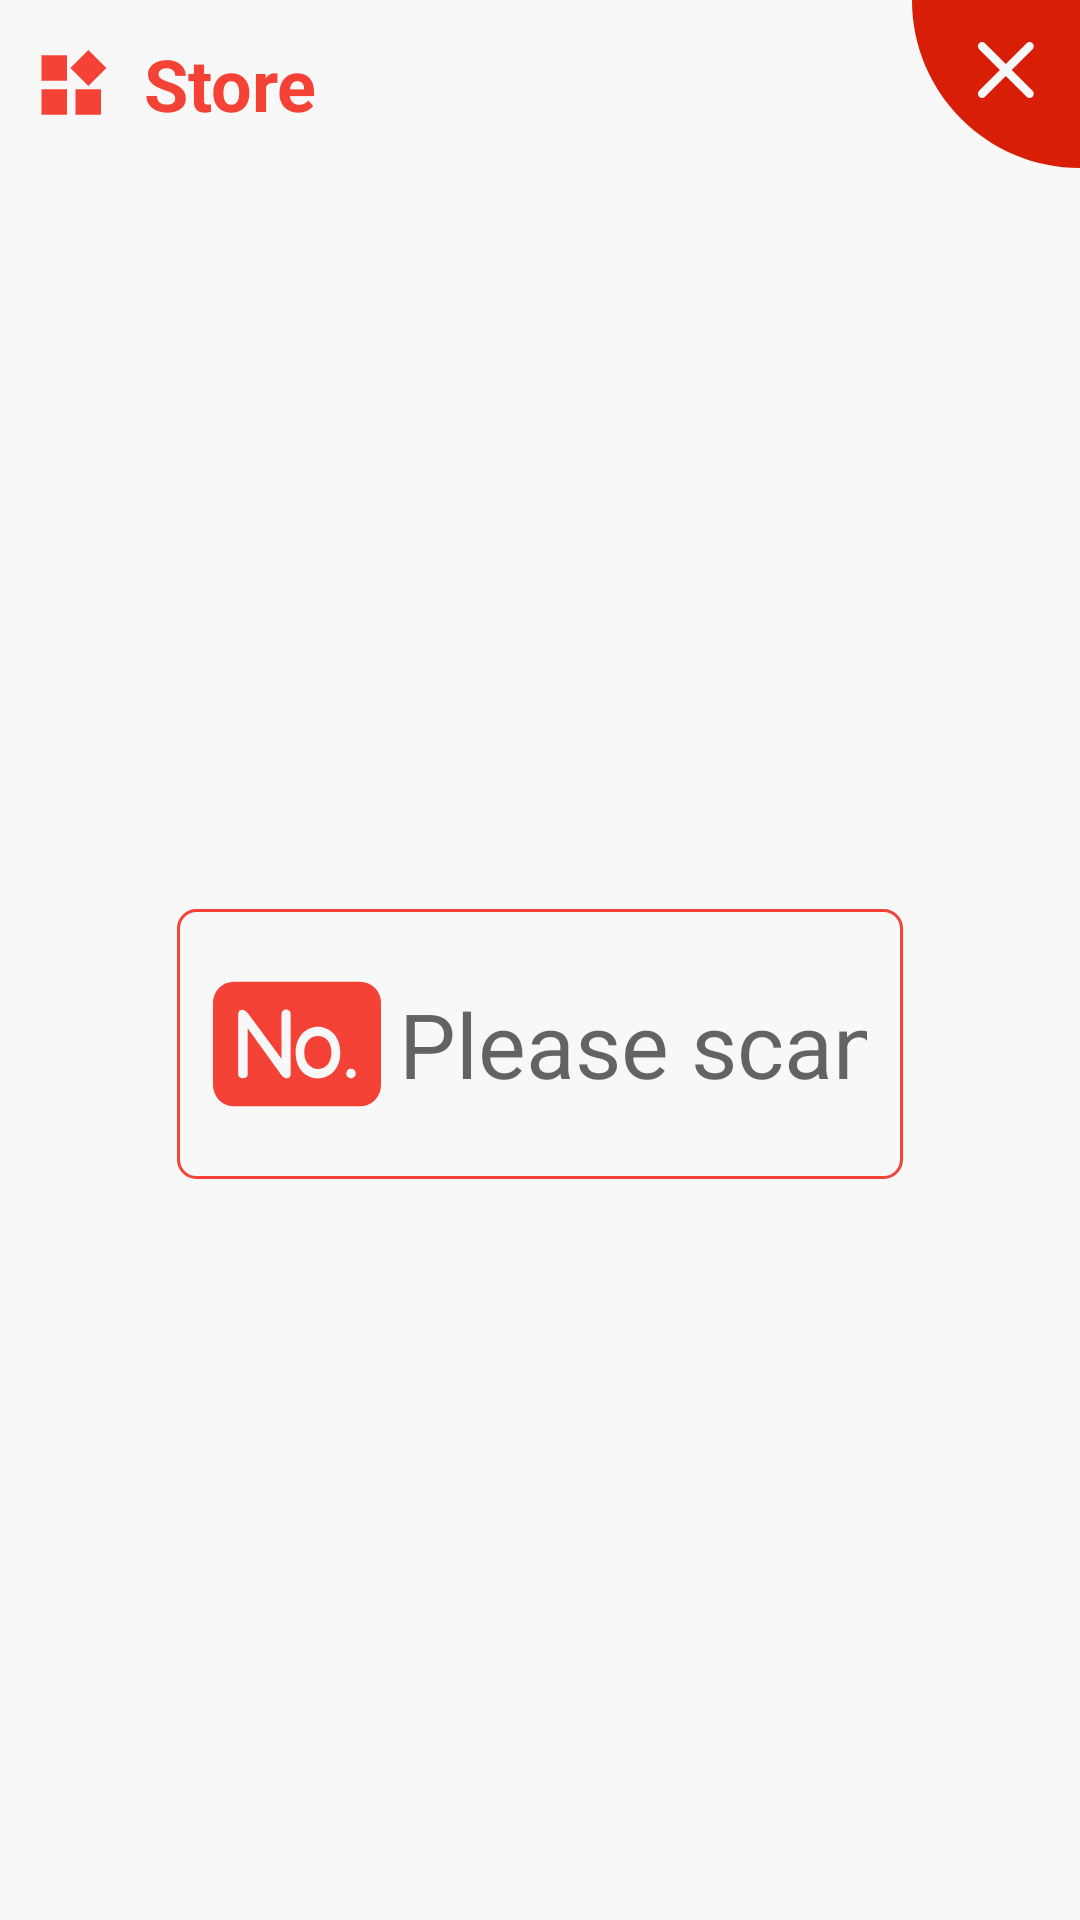

Point at icon controls on the screen. Image size 1080 × 1920, points as point (x, y).
close: point (996, 84)
